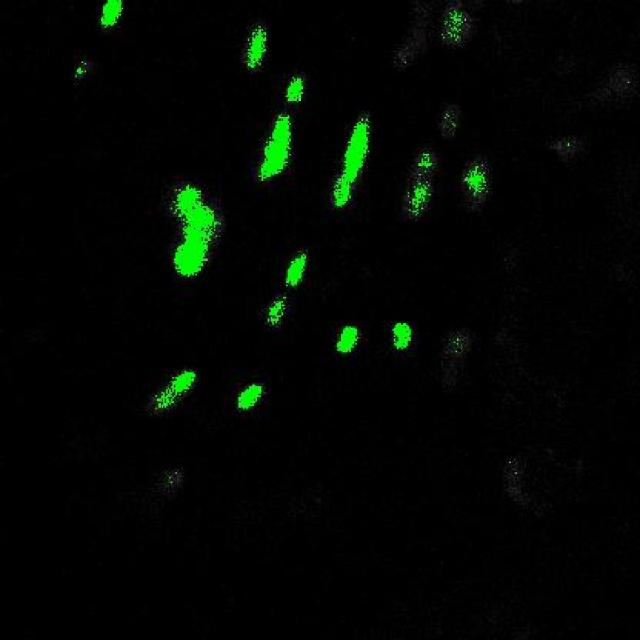Cell: (335, 120, 373, 210), (178, 187, 210, 277), (268, 116, 290, 181), (246, 29, 266, 70), (98, 0, 124, 27), (239, 387, 264, 409), (340, 328, 360, 354), (395, 322, 413, 350), (286, 259, 305, 284)
